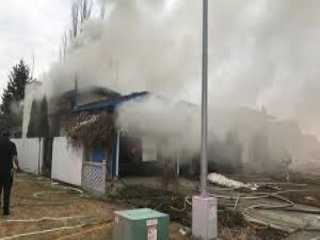smoke: (59, 13, 304, 159)
